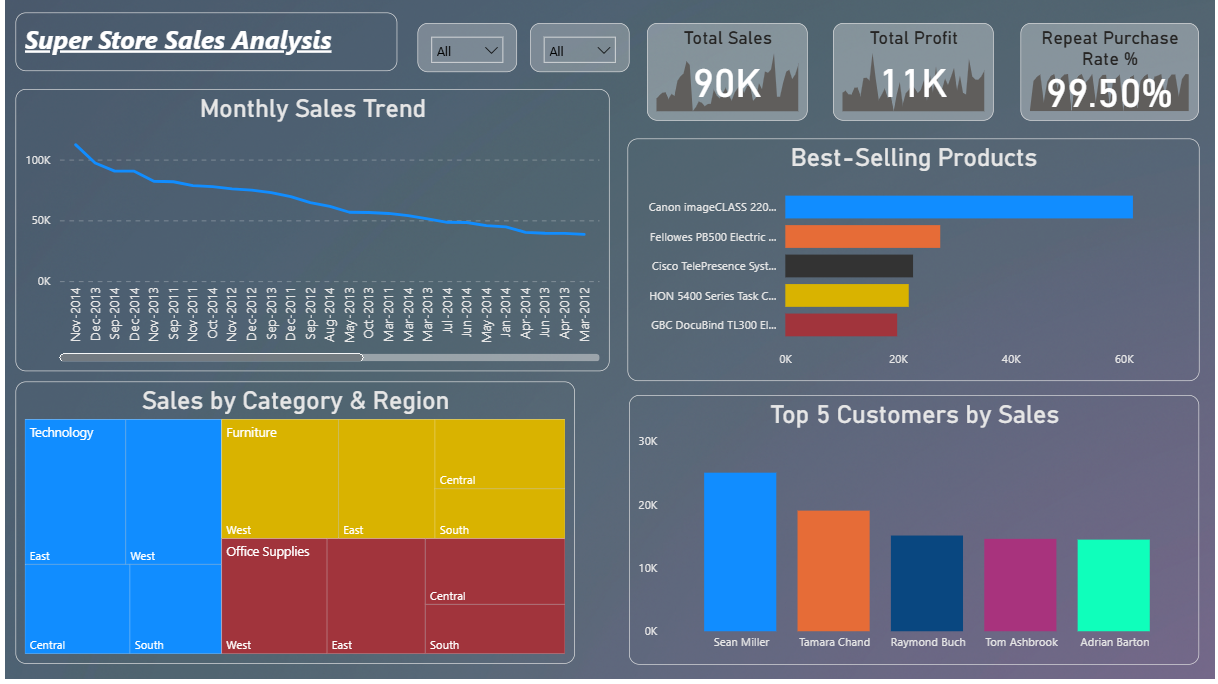

The dashboard page shown, as its layout file describes it:
{"tool":"powerbi","page":{"name":"Page 1","canvas":[1280,720],"ordinal":0},"visuals":[{"type":"lineChart","title":"Monthly Sales Trend","fields":{"Y":["Orders.Sales"],"Category":["Orders.MonthYear"]},"box":[11.7,95,628.3,298.3],"z":0},{"type":"textbox","box":[11.1,14.3,404,62],"z":1000},{"type":"clusteredBarChart","title":"Best-Selling Products","fields":{"Category":["Orders.Product Name"],"Y":["Orders.Sales"]},"box":[639.4,136.8,252.9,281.5],"z":2000},{"type":"treemap","title":"Sales by Category & Region","fields":{"Group":["Orders.Category"],"Details":["Orders.Region"],"Values":["Orders.Sales"]},"box":[11.7,405,591.7,298.3],"z":3000},{"type":"columnChart","title":"Top 5 Customers by Sales","fields":{"Category":["Orders.Customer Name"],"Y":["Orders.Sales"]},"box":[660,418.3,603.3,285],"z":4000},{"type":"kpi","title":"Total Sales","fields":{"Indicator":["Orders.Sales"],"TrendLine":["Orders.MonthYear"]},"box":[680,25,170,103.3],"z":5000},{"type":"kpi","title":"Total Profit","fields":{"TrendLine":["Orders.MonthYear"],"Indicator":["Orders.Profit"]},"box":[876.7,25,170,103.3],"z":6000},{"type":"kpi","title":"Repeat Purchase Rate %","fields":{"TrendLine":["Orders.MonthYear"],"Indicator":["Orders.Repeat Purchase Rate"]},"box":[1075,25,188.3,103.3],"z":7000},{"type":"slicer","fields":{"Values":["Orders.Year"]},"box":[436.7,25,105,51.7],"z":8000},{"type":"slicer","fields":{"Values":["Orders.Category"]},"box":[555,25,105,51.7],"z":9000},{"type":"clusteredBarChart","fields":{"Category":["Orders.State"],"Y":["Orders.Sub-Category"]},"box":[892.3,136.8,370.6,281.5],"z":10000}]}

Visuals, with their boxes in screenshot pixels (x1, y1, x2, y2), scaled from the page's 1280x720 canvas onto the 1218x684 screenshot:
"Monthly Sales Trend" lineChart: left=11, top=90, right=609, bottom=374
textbox: left=11, top=14, right=395, bottom=72
"Best-Selling Products" clusteredBarChart: left=608, top=130, right=849, bottom=397
"Sales by Category & Region" treemap: left=11, top=385, right=574, bottom=668
"Top 5 Customers by Sales" columnChart: left=628, top=397, right=1202, bottom=668
"Total Sales" kpi: left=647, top=24, right=809, bottom=122
"Total Profit" kpi: left=834, top=24, right=996, bottom=122
"Repeat Purchase Rate %" kpi: left=1023, top=24, right=1202, bottom=122
slicer - Orders.Year: left=416, top=24, right=515, bottom=73
slicer - Orders.Category: left=528, top=24, right=628, bottom=73
clusteredBarChart - Orders.State x Orders.Sub-Category: left=849, top=130, right=1202, bottom=397
